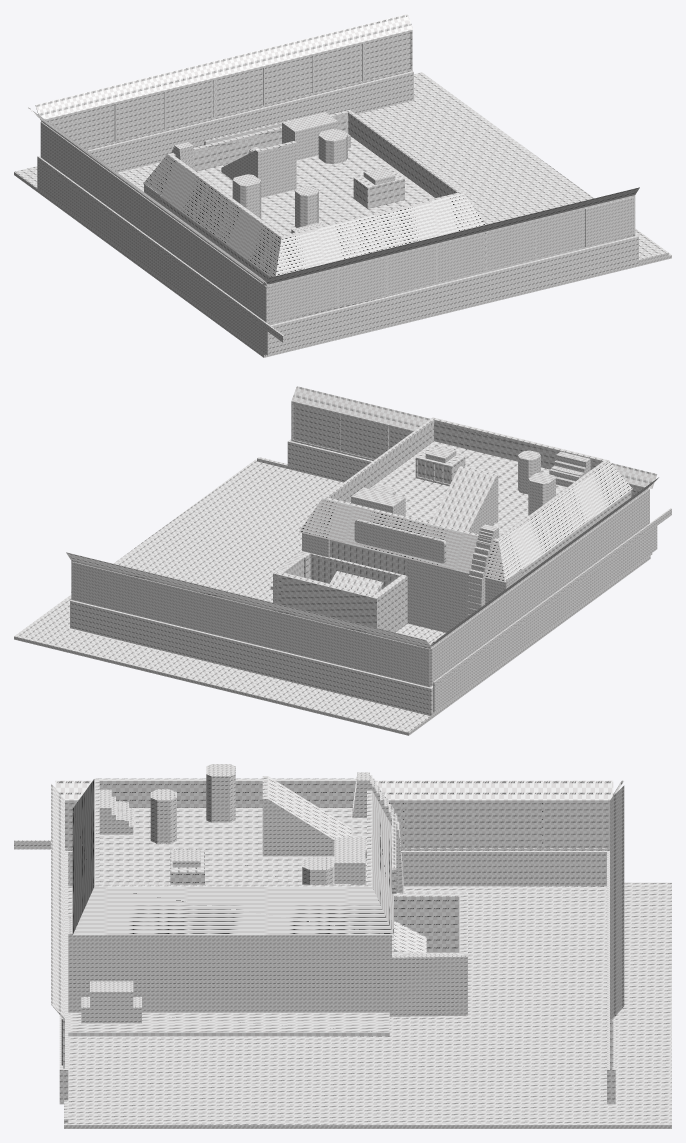
File: simpson-kwike.obj
The picture shows the model from 3 angles, top to bottom: view 1: azimuth 30°, elevation 25°; view 2: azimuth 150°, elevation 25°; view 3: azimuth 270°, elevation 25°; orthographic projection. The views are drawn at different scales.
Parts seen in each view (by area): view 1: entity0_brush99, entity0_brush215, entity0_brush74, entity0_brush216, entity0_brush61, entity0_brush85, entity0_brush65, entity0_brush217, entity0_brush2, entity0_brush86, entity0_brush101, entity0_brush218 (+20 smaller); view 2: entity0_brush99, entity0_brush215, entity0_brush61, entity0_brush216, entity0_brush86, entity0_brush101, entity0_brush92, entity0_brush2, entity0_brush212, entity0_brush100, entity0_brush53, entity0_brush65 (+24 smaller); view 3: entity0_brush99, entity0_brush210, entity0_brush87, entity0_brush2, entity0_brush216, entity0_brush73, entity0_brush16, entity0_brush262, entity0_brush211, entity0_brush138, entity0_brush65, entity0_brush48 (+21 smaller).
Boxes of the visible parts, x1,y1,x2,y2 form: entity0_brush99: (14, 72, 671, 357); entity0_brush215: (47, 44, 361, 148); entity0_brush74: (265, 234, 638, 355); entity0_brush216: (40, 121, 266, 322); entity0_brush61: (87, 71, 413, 172); entity0_brush85: (275, 193, 485, 275); entity0_brush65: (35, 14, 413, 120); entity0_brush217: (266, 245, 435, 323); entity0_brush2: (196, 136, 434, 235); entity0_brush86: (143, 154, 281, 277); entity0_brush101: (37, 163, 269, 355); entity0_brush218: (437, 209, 584, 282); entity0_brush99: (14, 459, 650, 735); entity0_brush215: (118, 573, 429, 685); entity0_brush61: (70, 600, 431, 715); entity0_brush216: (430, 489, 649, 685); entity0_brush86: (499, 460, 632, 582); entity0_brush101: (433, 526, 657, 712); entity0_brush92: (299, 498, 504, 582); entity0_brush2: (369, 441, 566, 536); entity0_brush212: (406, 558, 522, 632); entity0_brush100: (281, 573, 376, 627); entity0_brush53: (291, 386, 657, 488); entity0_brush65: (66, 552, 431, 647); entity0_brush99: (64, 882, 671, 1128); entity0_brush210: (68, 917, 391, 1016); entity0_brush87: (73, 887, 393, 935); entity0_brush2: (99, 808, 366, 884); entity0_brush216: (65, 802, 609, 847); entity0_brush73: (66, 850, 609, 886); entity0_brush16: (68, 1012, 389, 1036); entity0_brush262: (55, 780, 613, 800); entity0_brush211: (392, 954, 467, 1016); entity0_brush138: (95, 778, 356, 807); entity0_brush65: (610, 785, 624, 1020); entity0_brush48: (394, 893, 466, 952).
Bounding box in the file's own units: 1074 × 316 × 1212.
